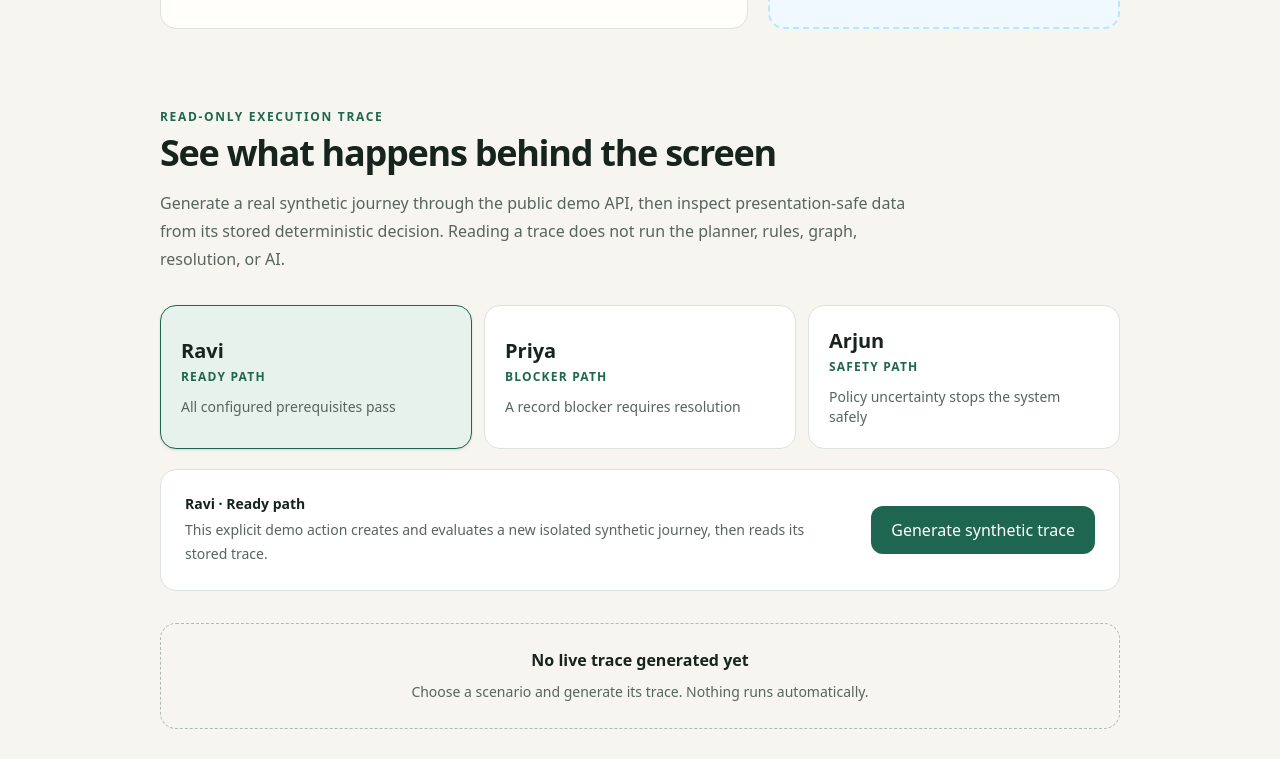
Test: Phase 7D system explorer › renders Arjun's backend safe stop without inventing a wait or AI fallback
This screenshot has width=1280, height=759.
(page scrolled)
Click the button "Arjun Safety path Policy uncertainty stops the system safely".
click(857, 340)  # box [808,305,1120,449]
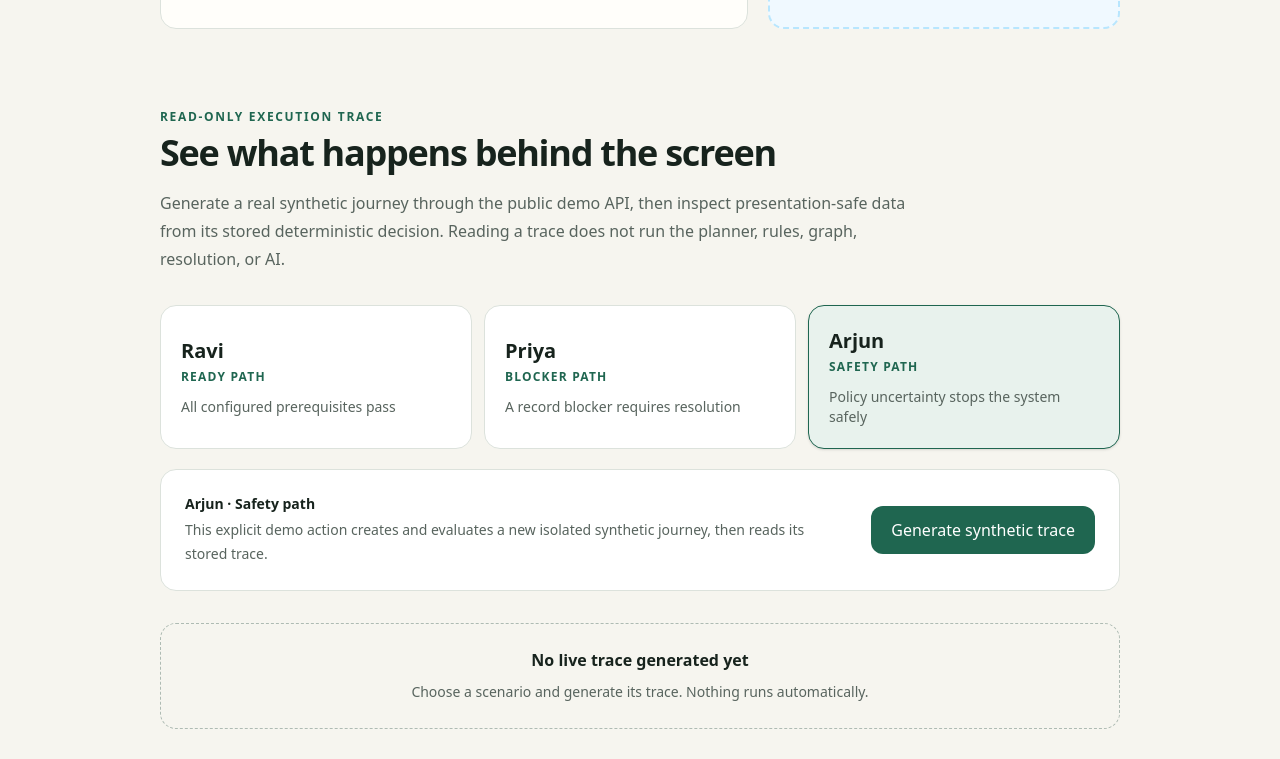
Click the button "Generate synthetic trace".
click(983, 530)  # box [871,506,1095,554]
(page scrolled)
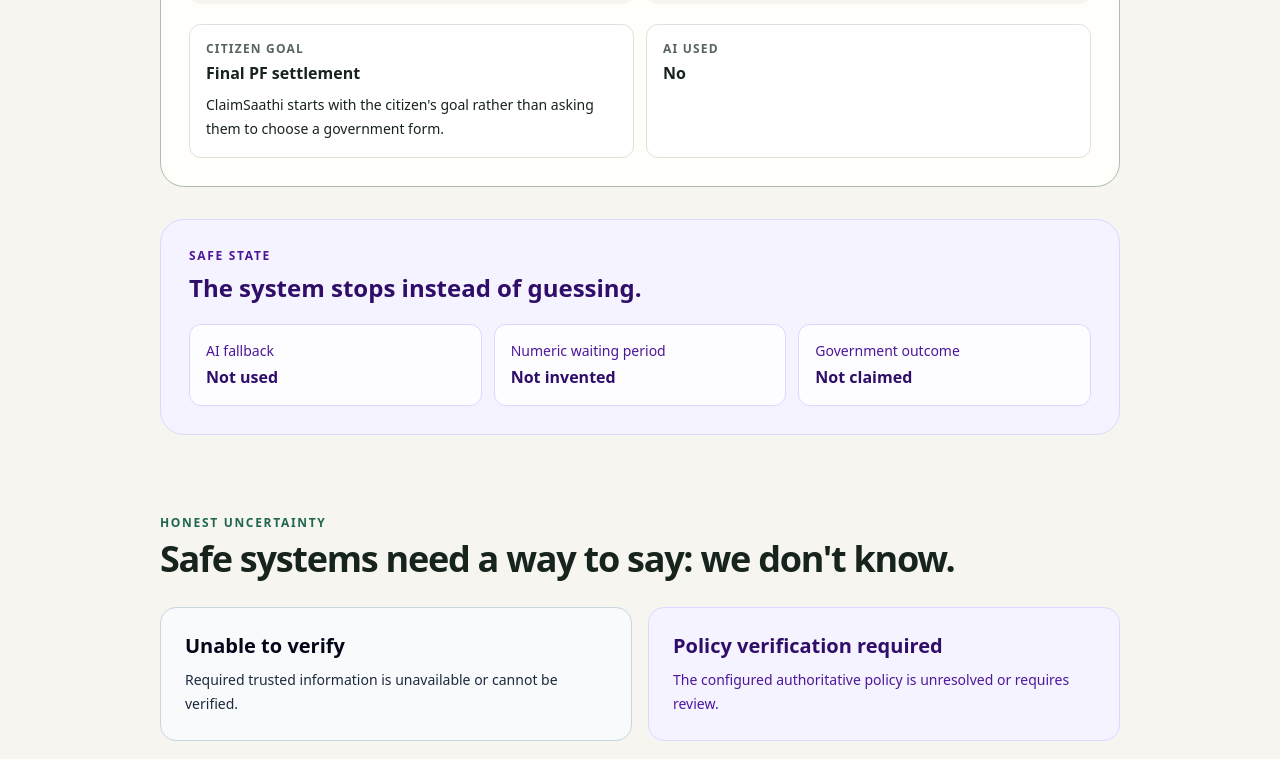
Result: the heading "The system stops instead of guessing." is shown at [189,271,642,304]
Result: the text "AI fallback" is shown at [206,341,274,360]
Result: the text "Not used" is shown at [206,366,278,388]
